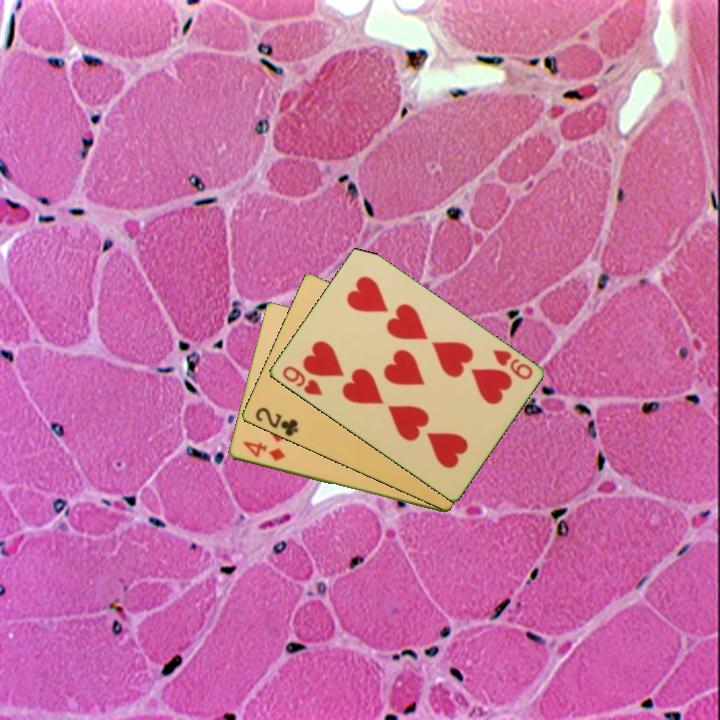2c: (251, 404, 301, 439)
4d: (239, 438, 288, 464)
9h: (278, 362, 325, 399), (488, 346, 535, 383)
